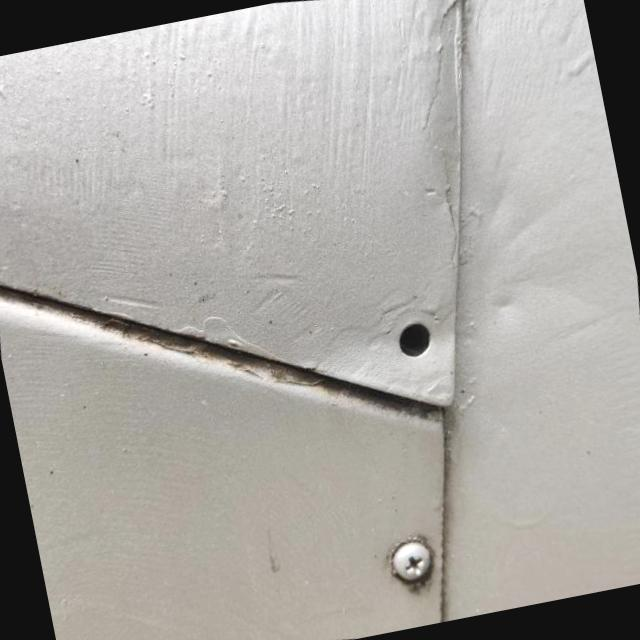Missing Fastener: (390, 320, 434, 360)
